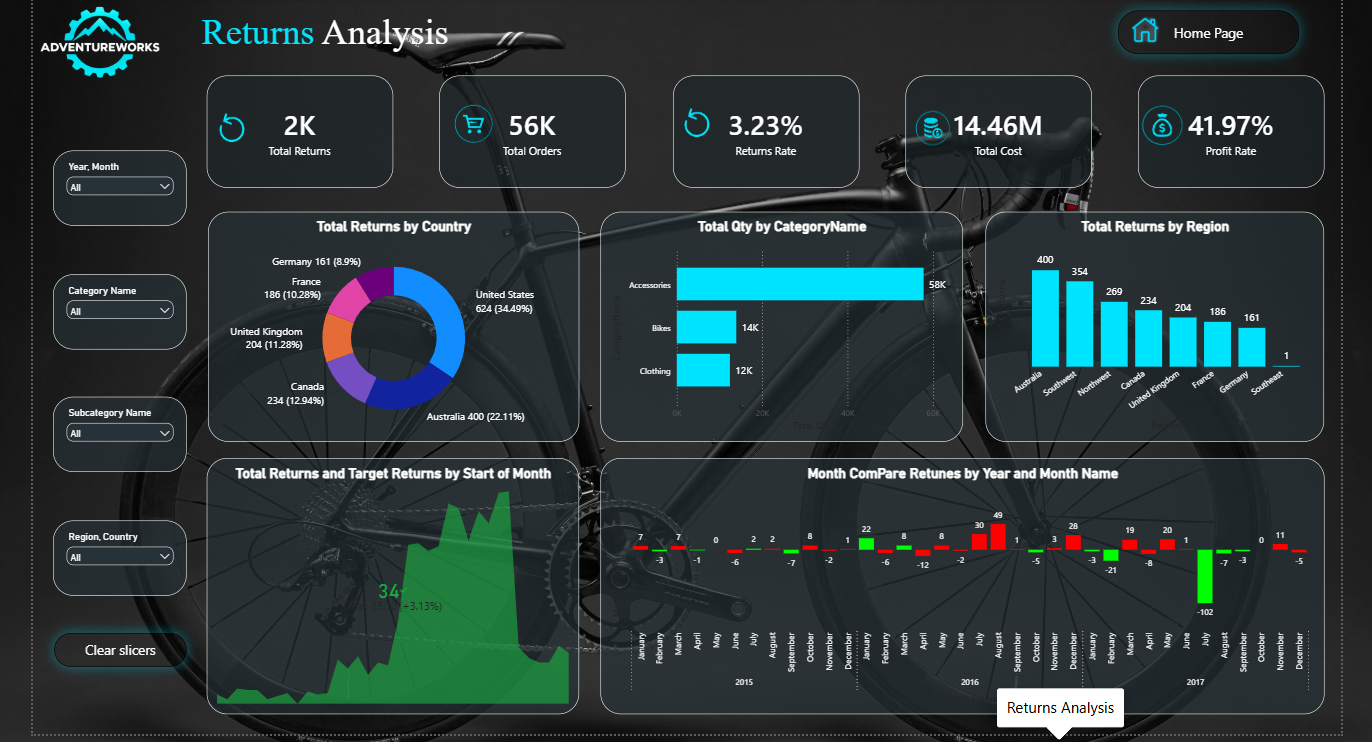

Layout of this report page (visuals, bound fields, positions):
{"tool":"powerbi","page":{"name":"Returns Analysis","canvas":[1920,1080],"ordinal":5},"visuals":[{"type":"textbox","box":[242.1,14.7,438.4,71.5],"z":0},{"type":"image","box":[0,0,196.3,128.4],"z":1000},{"type":"slicer","fields":{"Values":["Calendar Table.Year","Calendar Table.Month Name"]},"box":[29.3,223.8,196.3,110.1],"z":2000},{"type":"slicer","fields":{"Values":["Product_Categories.CategoryName"]},"box":[29.3,404.8,196.3,110.1],"z":3000},{"type":"slicer","fields":{"Values":["Territories.Region","Territories.Country"]},"box":[29.3,766.7,196.3,110.1],"z":4000},{"type":"slicer","fields":{"Values":["Product_Subcategories.SubcategoryName"]},"box":[29.3,585.7,196.3,110.1],"z":5000},{"type":"actionButton","box":[31.2,931.8,194.4,49.5],"z":6000},{"type":"actionButton","box":[1592.1,18.3,266,64.2],"z":7000},{"type":"cardVisual","fields":{"Data":["Sales.Total Returns"]},"box":[255,113.7,273.3,165.1],"z":8000},{"type":"cardVisual","fields":{"Data":["Sales.Total Orders"]},"box":[596.6,113.7,273.3,165.1],"z":9000},{"type":"cardVisual","fields":{"Data":["Sales.Total Cost"]},"box":[1279.8,113.7,273.3,165.1],"z":10000},{"type":"cardVisual","fields":{"Data":["Sales.Profit %"]},"box":[1621.5,113.7,273.3,165.1],"z":11000},{"type":"cardVisual","fields":{"Data":["Sales.Returns Rate"]},"box":[938.2,113.7,273.3,165.1],"z":12000},{"type":"donutChart","fields":{"Category":["Territories.Country"],"Y":["Sales.Total Returns"]},"box":[256.8,313.7,544.8,337.5],"z":13000},{"type":"barChart","fields":{"Category":["Product_Categories. CategoryName"],"Y":["Sales.Total Qty"]},"box":[832.7,313.7,531.9,337.5],"z":14000},{"type":"columnChart","fields":{"Category":["Territories.Region"],"Y":["Sales.Total Returns"]},"box":[1397.7,313.7,497.1,337.5],"z":15000},{"type":"kpi","fields":{"Goal":["Sales.Target Returns"],"Indicator":["Sales.Total Returns"],"TrendLine":["Calendar Table.Start of Month"]},"box":[255,675,546.6,376],"z":16000},{"type":"columnChart","fields":{"Category":["Calendar Table.Year","Calendar Table.Month Name"],"Y":["Sales.Month ComPare Retunes"]},"box":[832.7,675,1062,376],"z":17000},{"type":"image","box":[594.3,135.7,115.6,95.4],"z":18000},{"type":"image","box":[1263.8,143.1,116.2,94.5],"z":19000},{"type":"image","box":[1605,141.2,115.6,95.4],"z":20000},{"type":"image","box":[256.8,149.6,77,80.7],"z":21000},{"type":"image","box":[939.1,143.1,77,80.7],"z":22000},{"type":"image","box":[1594,16.5,77,58.7],"z":22001}]}

Visuals, with their boxes on the page's 1920x1080 design canvas (x1, y1, x2, y2). These are canvas units, not pixel positions in the 1372x742 screenshot, which may show the page scaled, cropped or inside an application window:
textbox: locate(242, 15, 680, 86)
image: locate(0, 0, 196, 128)
slicer - Calendar Table.Year x Calendar Table.Month Name: locate(29, 224, 226, 334)
slicer - Product_Categories.CategoryName: locate(29, 405, 226, 515)
slicer - Territories.Region x Territories.Country: locate(29, 767, 226, 877)
slicer - Product_Subcategories.SubcategoryName: locate(29, 586, 226, 696)
actionButton: locate(31, 932, 226, 981)
actionButton: locate(1592, 18, 1858, 82)
cardVisual - Sales.Total Returns: locate(255, 114, 528, 279)
cardVisual - Sales.Total Orders: locate(597, 114, 870, 279)
cardVisual - Sales.Total Cost: locate(1280, 114, 1553, 279)
cardVisual - Sales.Profit %: locate(1622, 114, 1895, 279)
cardVisual - Sales.Returns Rate: locate(938, 114, 1212, 279)
donutChart - Territories.Country x Sales.Total Returns: locate(257, 314, 802, 651)
barChart - Product_Categories. CategoryName x Sales.Total Qty: locate(833, 314, 1365, 651)
columnChart - Territories.Region x Sales.Total Returns: locate(1398, 314, 1895, 651)
kpi - Sales.Target Returns x Sales.Total Returns: locate(255, 675, 802, 1051)
columnChart - Calendar Table.Year x Calendar Table.Month Name: locate(833, 675, 1895, 1051)
image: locate(594, 136, 710, 231)
image: locate(1264, 143, 1380, 238)
image: locate(1605, 141, 1721, 237)
image: locate(257, 150, 334, 230)
image: locate(939, 143, 1016, 224)
image: locate(1594, 16, 1671, 75)
